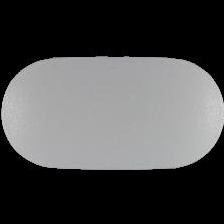68788-9742: (0, 0, 224, 224)
